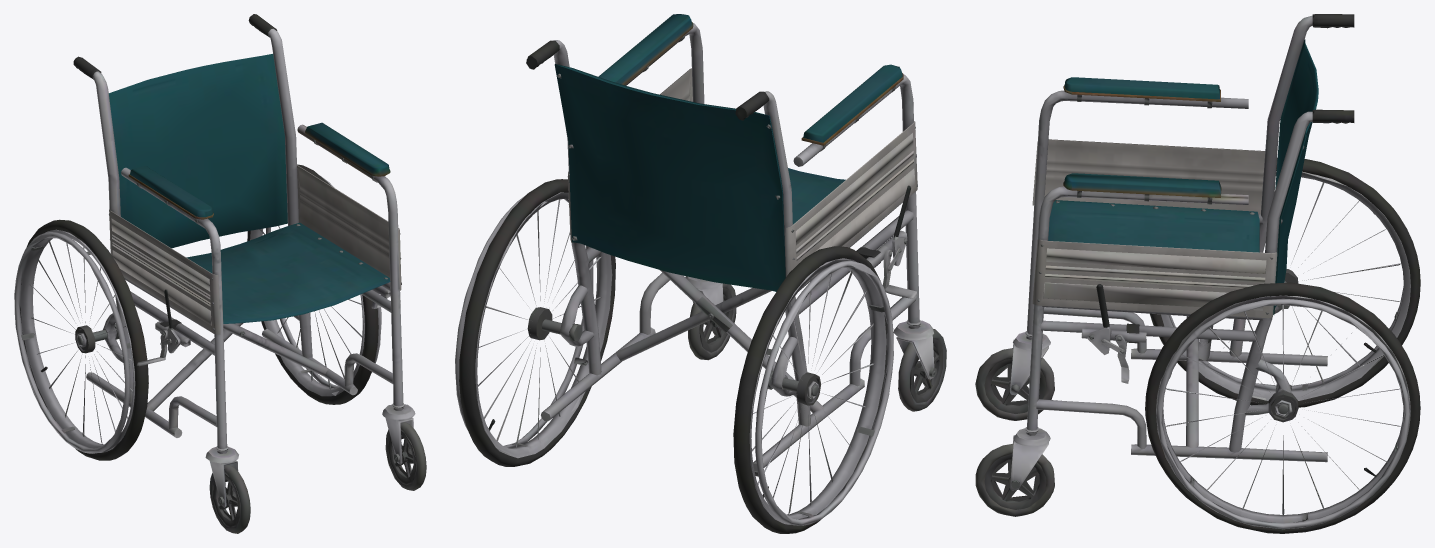
The model's file is PH-wheelchair_01.glb.
3 renders of one model, left to right at view 1: azimuth 30°, elevation 25°; view 2: azimuth 150°, elevation 25°; view 3: azimuth 270°, elevation 25°, orthographic. The views are drawn at different scales.
Visible parts, largest first — view 1: wheelchair_01; view 2: wheelchair_01; view 3: wheelchair_01.
Boxes of the visible parts, bbox=[...] form: wheelchair_01: bbox=[14, 14, 426, 533]; wheelchair_01: bbox=[455, 14, 946, 533]; wheelchair_01: bbox=[975, 14, 1420, 533].
Bounding box in the file's own units: 0.824 × 1.1 × 1.09.
Materials: 1 (1 with a texture image).
